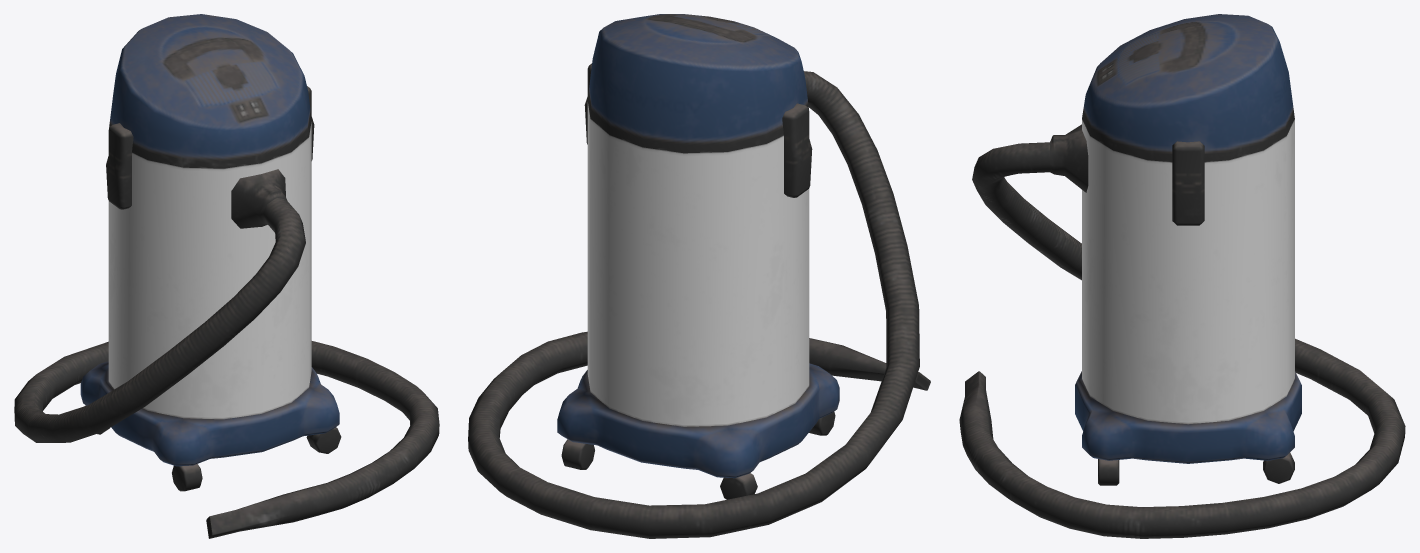
Rendered from vacuum-cleaner-9043d7.glb.
3 views of the same model, side by side, from view 1: azimuth 30°, elevation 25°; view 2: azimuth 150°, elevation 25°; view 3: azimuth 270°, elevation 25° (orthographic). The views are drawn at different scales.
Parts seen in each view (by area): view 1: PropMesh; view 2: PropMesh; view 3: PropMesh.
Boxes of the visible parts, x1,y1,x2,y2 form: PropMesh: (14, 14, 439, 538); PropMesh: (468, 14, 930, 538); PropMesh: (959, 14, 1405, 538).
Size of the model in its own units: 0.5761 by 0.6 by 0.5891.
Materials: 1 (1 with a texture image).
